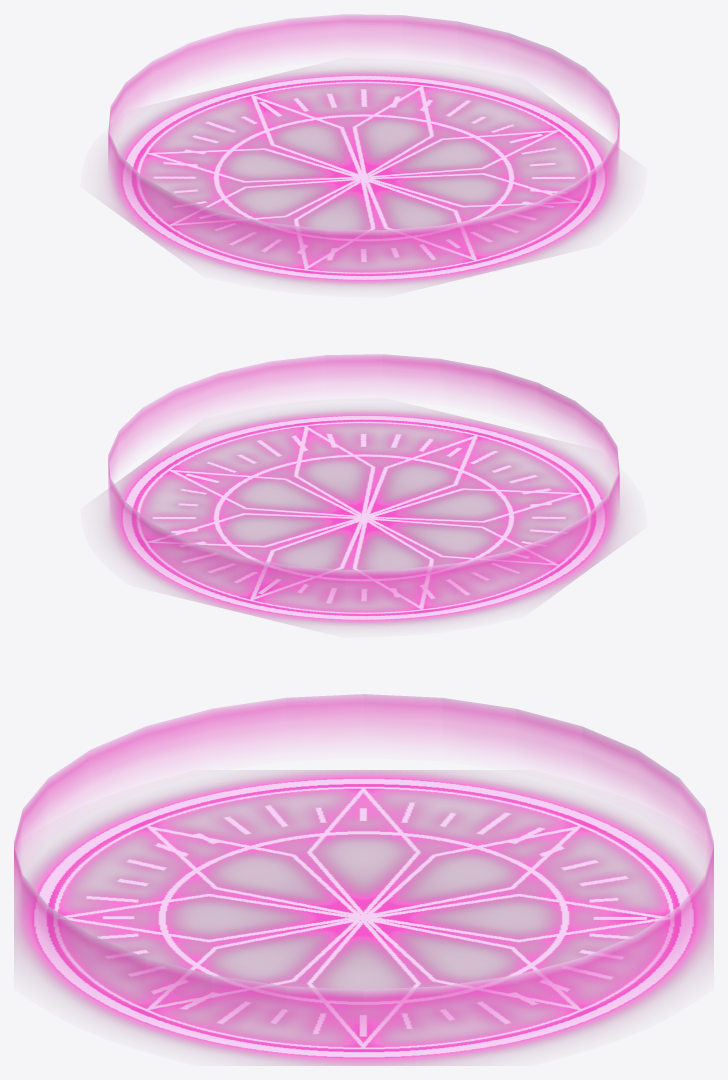
The model's file is fx_bloom.glb.
3 renders of one model, top to bottom at view 1: azimuth 30°, elevation 25°; view 2: azimuth 150°, elevation 25°; view 3: azimuth 270°, elevation 25°, orthographic. The views are drawn at different scales.
Parts seen in each view (by area): view 1: fx_bloom_rune, fx_bloom_veil; view 2: fx_bloom_rune, fx_bloom_veil; view 3: fx_bloom_rune, fx_bloom_veil.
Boxes of the visible parts, x1,y1,x2,y2 form: fx_bloom_rune: (105, 68, 622, 286); fx_bloom_veil: (108, 14, 619, 262); fx_bloom_rune: (105, 409, 622, 626); fx_bloom_veil: (108, 354, 619, 604); fx_bloom_rune: (14, 770, 713, 1065); fx_bloom_veil: (14, 694, 713, 1035).
Size of the model in its own units: 1 by 0.12 by 1.
Materials: 2 (2 with a texture image).
